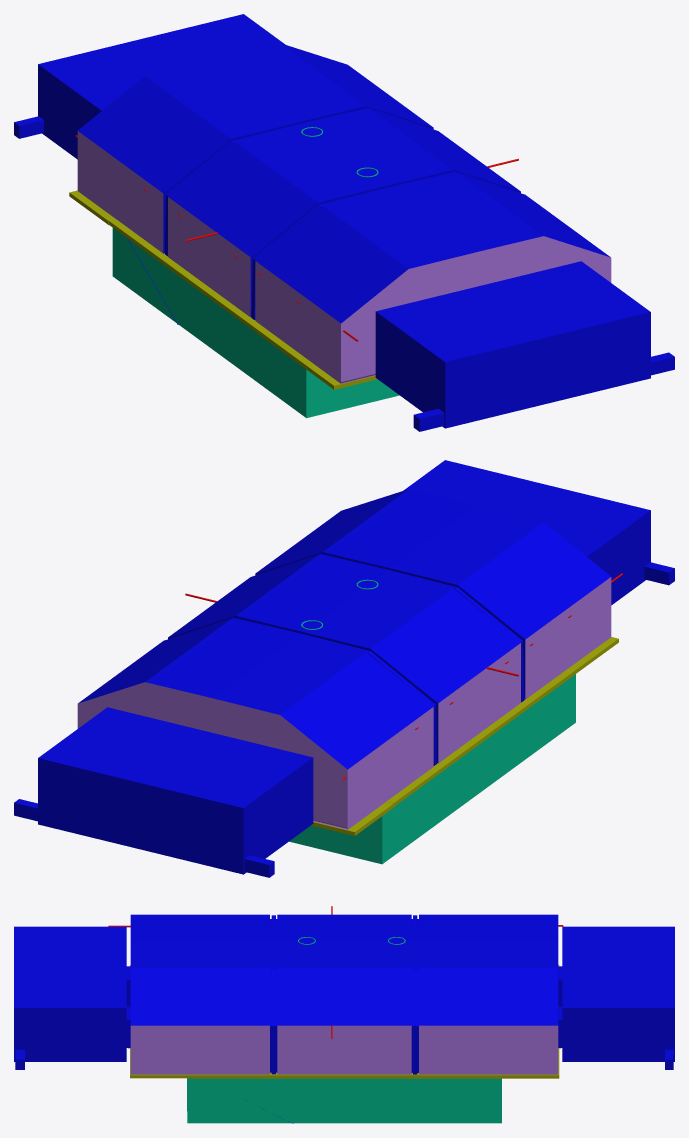
File: map.fbx
3 renders of one model, top to bottom at view 1: azimuth 30°, elevation 25°; view 2: azimuth 150°, elevation 25°; view 3: azimuth 270°, elevation 25°, orthographic. The views are drawn at different scales.
Visible parts, largest first — view 1: map:polySurface19, map:Basement, map:Cavity1; view 2: map:polySurface19, map:Basement, map:Cavity1; view 3: map:polySurface19, map:Basement, map:Cavity1.
Part boxes in pixels (box(x1,y1,x2,y2)): map:polySurface19: box(14, 14, 674, 431); map:Basement: box(112, 228, 399, 418); map:Cavity1: box(69, 190, 377, 389); map:polySurface19: box(14, 460, 674, 877); map:Basement: box(289, 674, 575, 864); map:Cavity1: box(311, 637, 618, 835); map:polySurface19: box(14, 914, 674, 1123); map:Basement: box(187, 1078, 501, 1123); map:Cavity1: box(130, 964, 559, 1078).
Size of the model in its own units: 6693 by 3071 by 14179.
